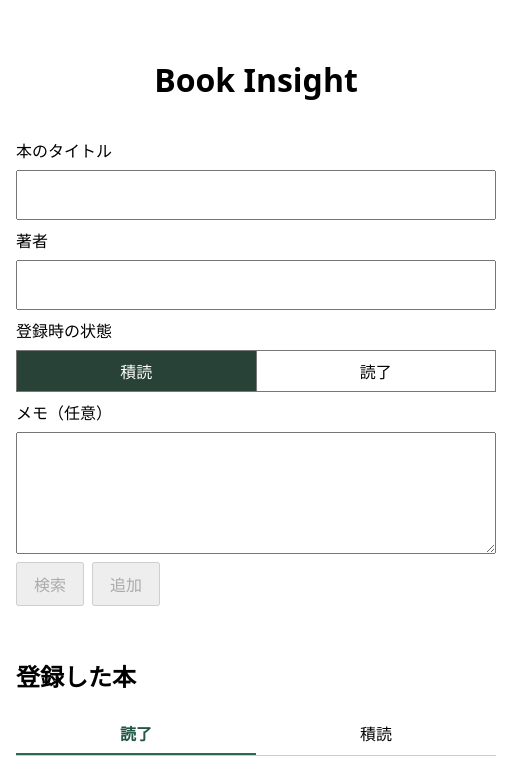
Test: App › 選択した表示に本がない場合は空表示にする
This screenshot has width=513, height=758.
Click the button "積読" below "登録した本" at coordinates (376, 734), box [256,713,496,755]
(page scrolled)
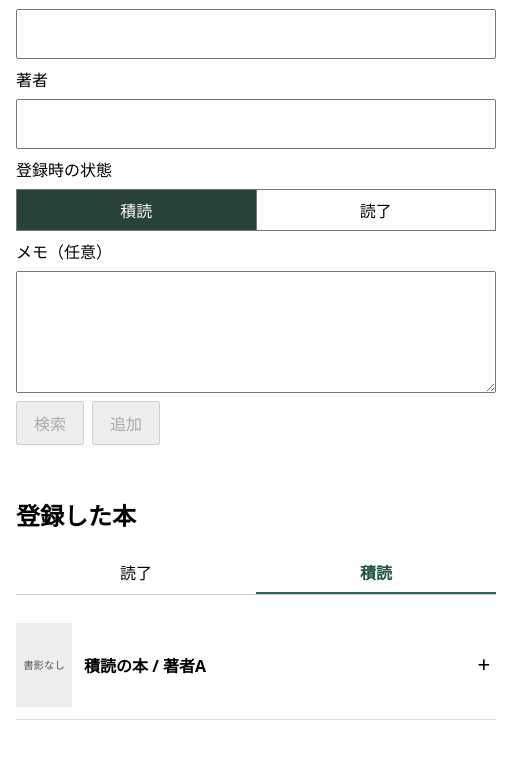
Expected: the text "積読の本 / 著者A" is shown, [84,655,206,677]
